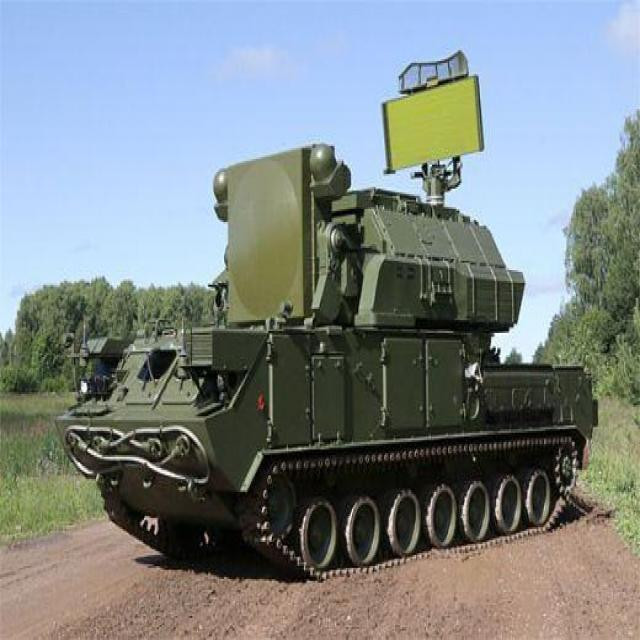MIL_EW_RDR: (73, 51, 597, 572)
